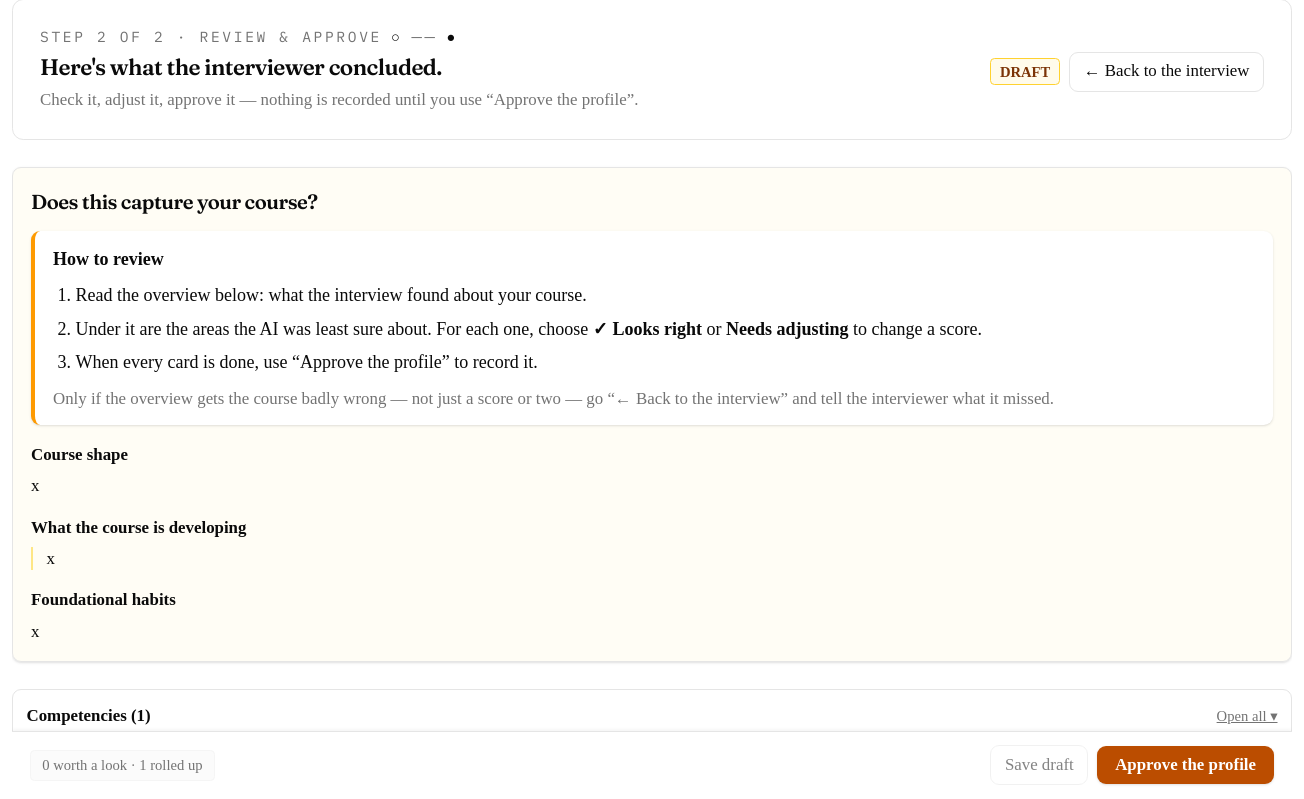
Test: approve dialog with thin evidence › shows the warning and needs "approve anyway" before approving
Click the button "Approve the profile" at (1186, 765), box [1097,746,1274,785]
(page scrolled)
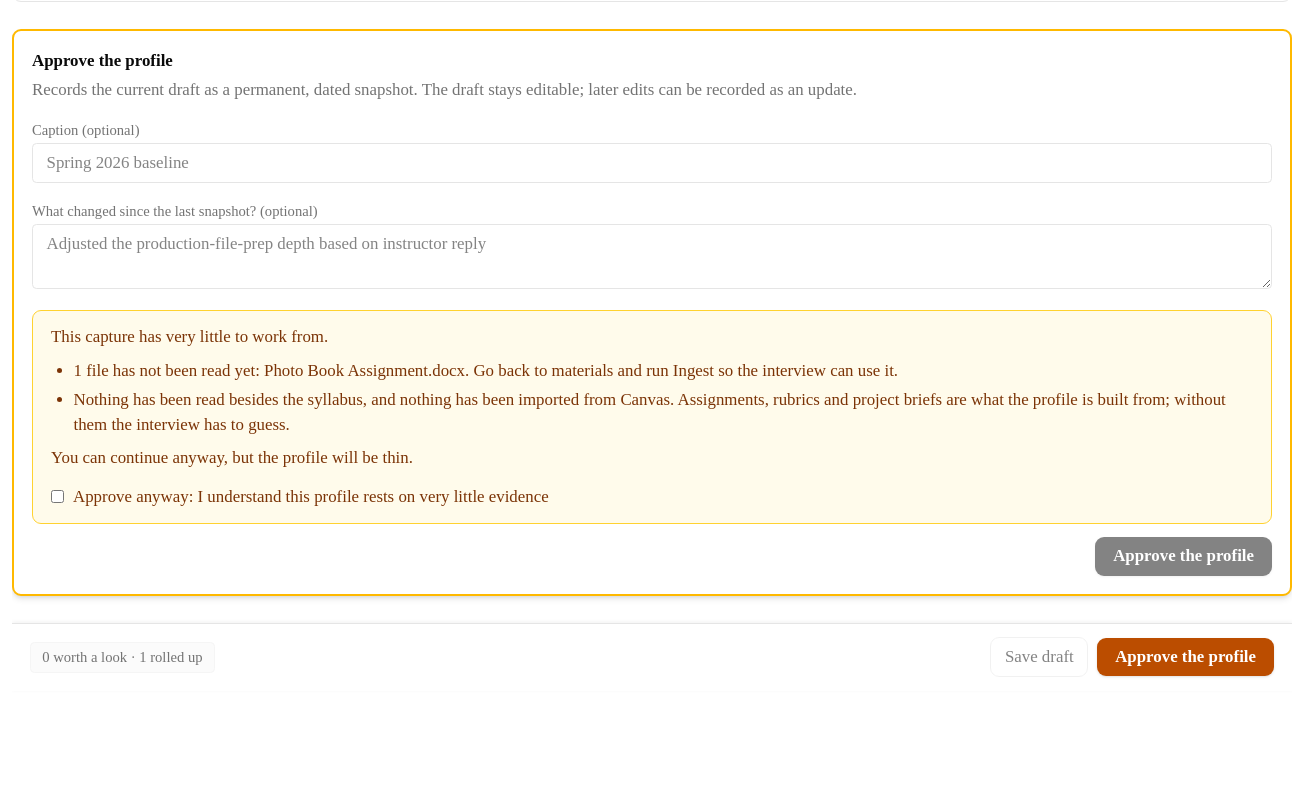
Expected: the text "This capture has very little to work from." is shown, [51,327,328,346]
Expected: the list item "Photo Book Assignment.docx" is shown, [264,360,465,380]
Expected: the 1st button "Approve the profile" is disabled, [1095,537,1272,576]
Click the checkbox labelled "Approve anyway" at (58, 497), box [51,490,64,503]
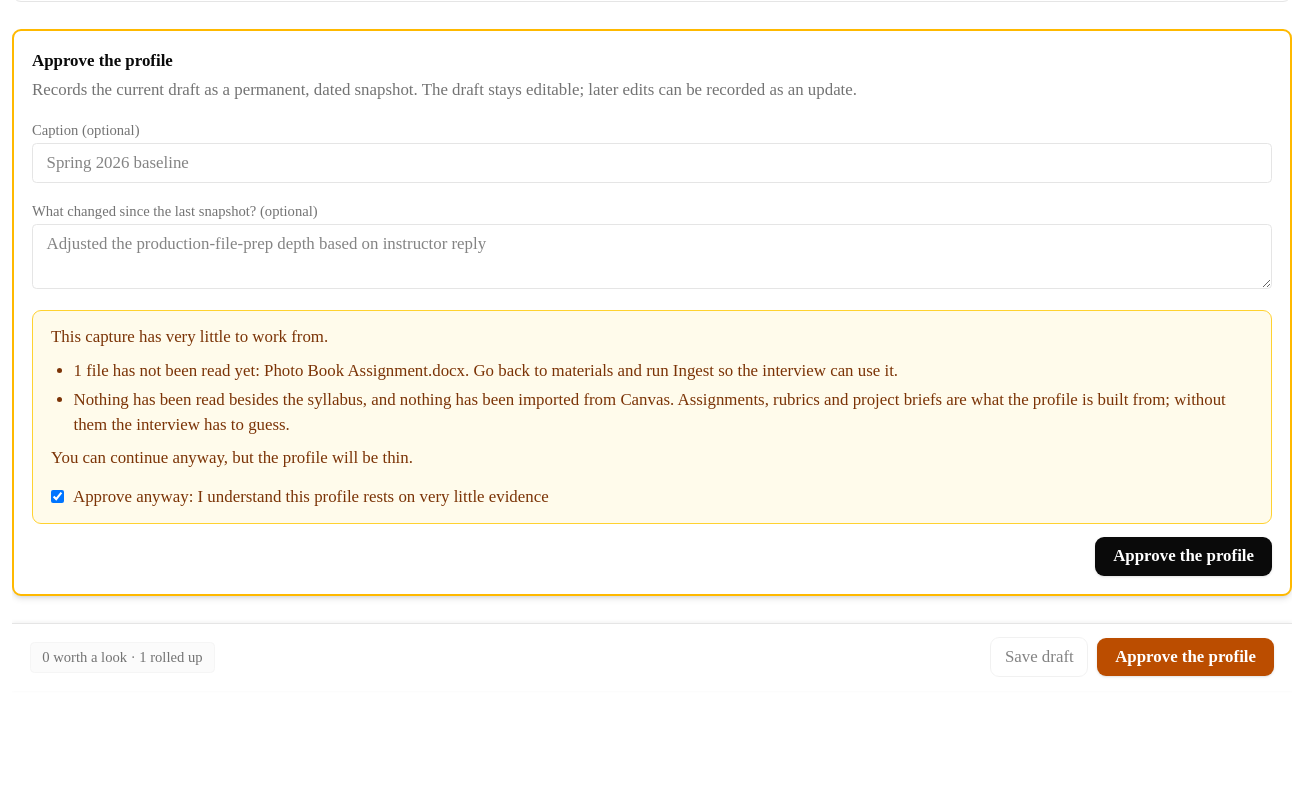
Expected: the 1st button "Approve the profile" is enabled, [1095,537,1272,576]
